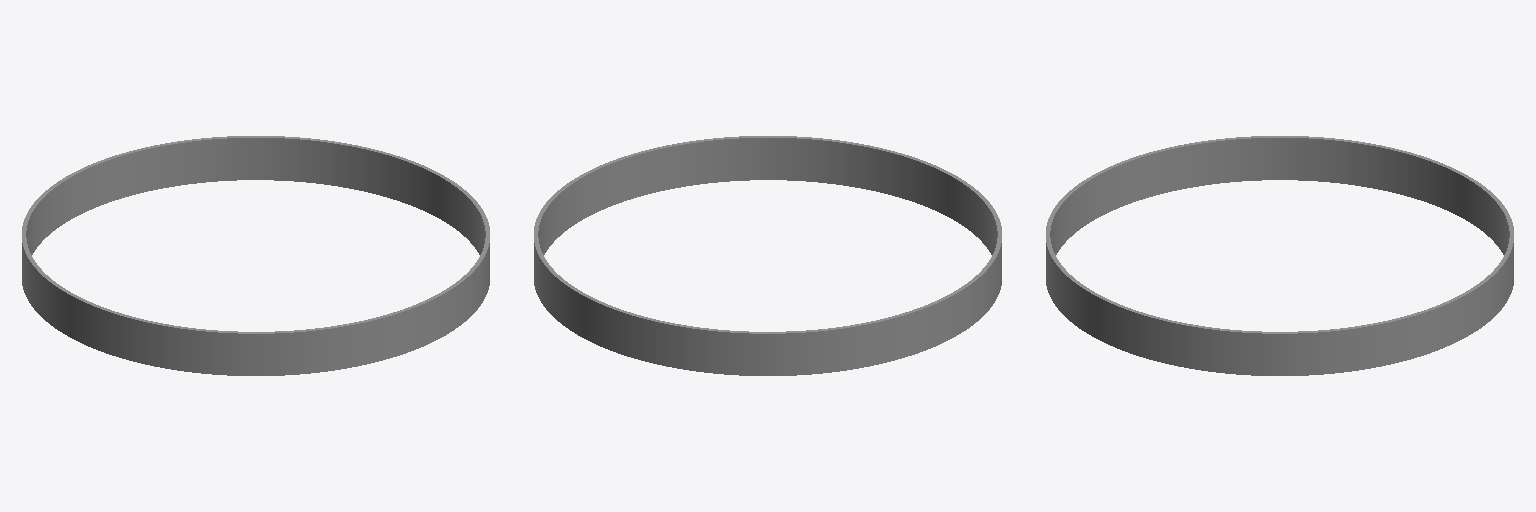
The model's file is hollowCylinder.obj.
The picture shows the model from 3 angles: view 1: azimuth 30°, elevation 25°; view 2: azimuth 150°, elevation 25°; view 3: azimuth 270°, elevation 25°; orthographic projection.
Parts seen in each view (by area): view 1: hollowCylinder; view 2: hollowCylinder; view 3: hollowCylinder.
Boxes of the visible parts, <box> form: hollowCylinder: <box>22,136,489,375</box>; hollowCylinder: <box>534,136,1001,375</box>; hollowCylinder: <box>1046,136,1513,375</box>.
Bounding box in the file's own units: 10 × 1 × 10.